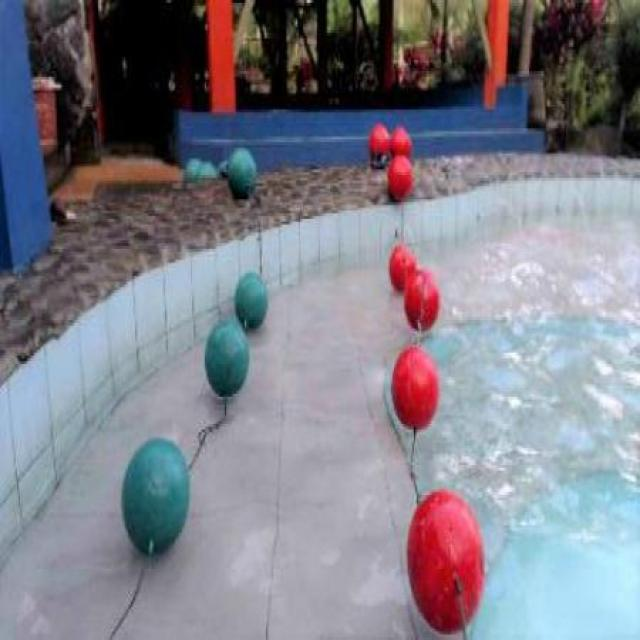buoy: (406, 488, 486, 633), (121, 438, 190, 552), (390, 347, 440, 430), (203, 320, 249, 397), (403, 260, 443, 330), (231, 273, 267, 329), (228, 143, 256, 195), (388, 245, 418, 291), (384, 153, 412, 197)
